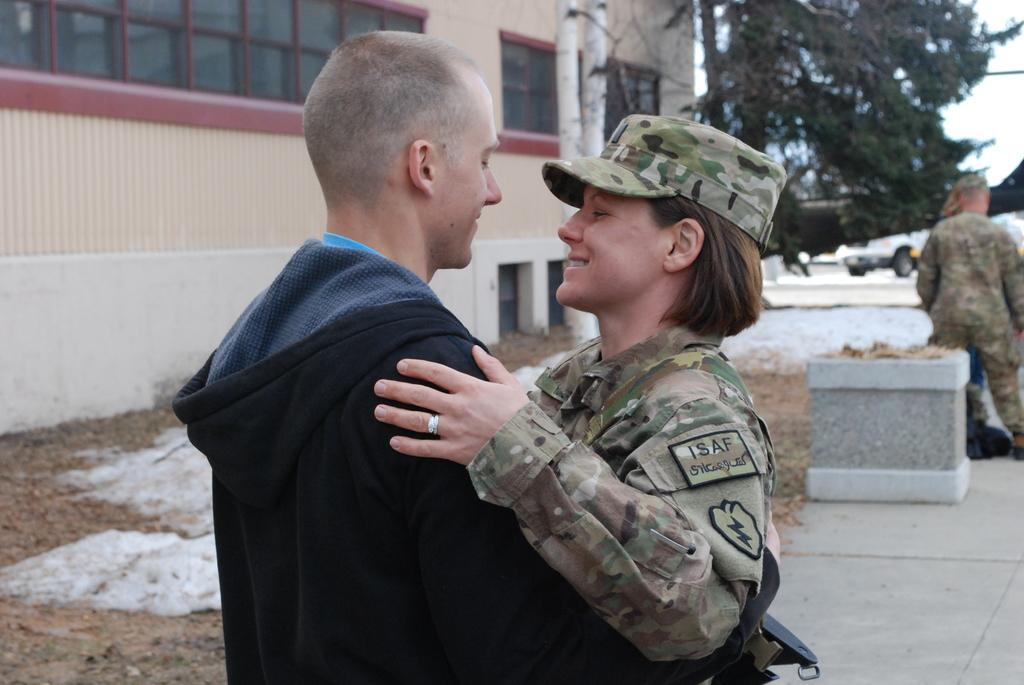Hat: (544, 110, 787, 250)
